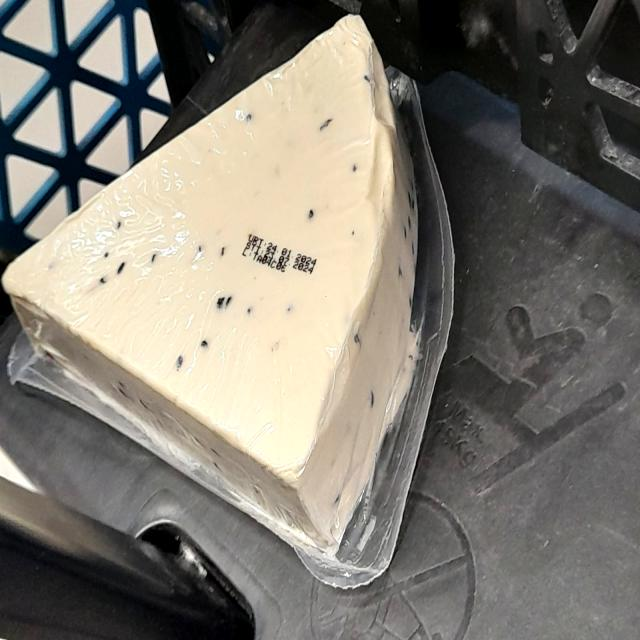cheese: (0, 16, 397, 589)
